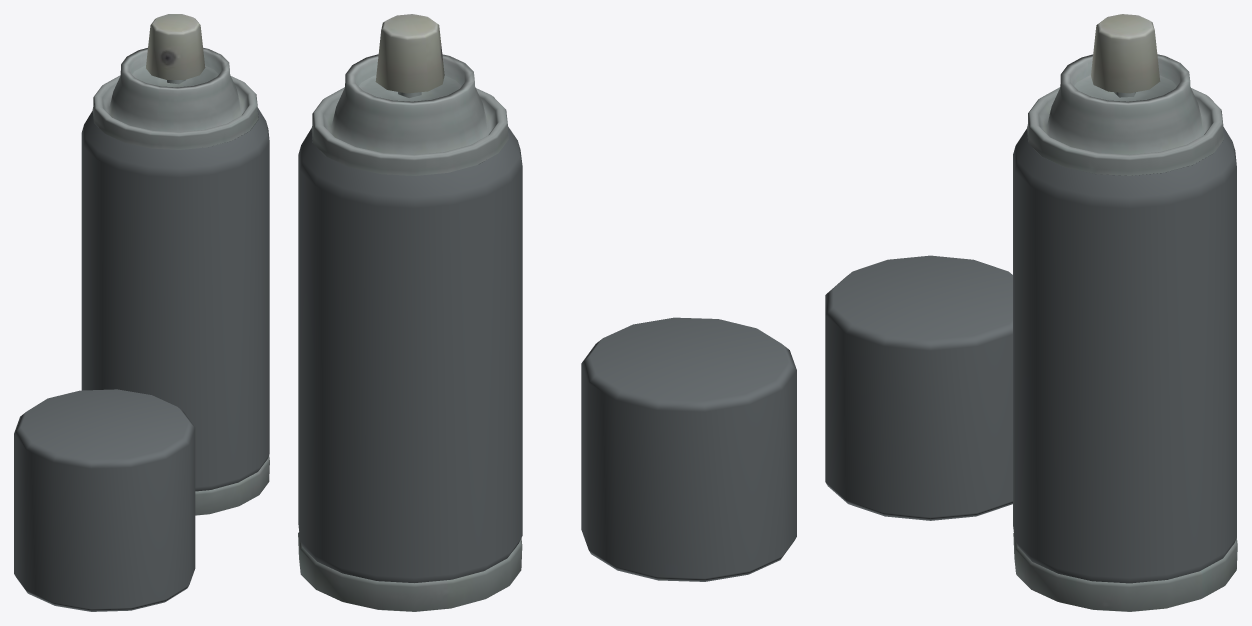
3 renders of one model, left to right at view 1: azimuth 30°, elevation 25°; view 2: azimuth 150°, elevation 25°; view 3: azimuth 270°, elevation 25°, orthographic. The views are drawn at different scales.
Bounding box in the file's own units: 4.74 × 6.59 × 4.54.
2 materials, 2 textured.
